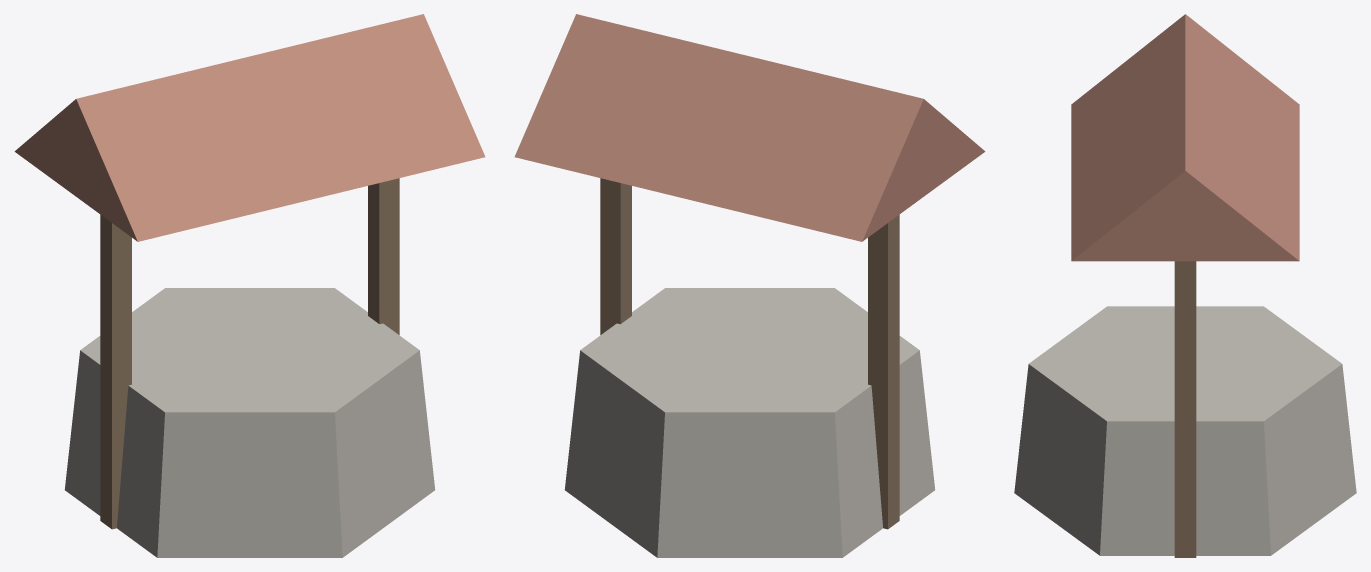
3 views of the same model, side by side, from view 1: azimuth 30°, elevation 25°; view 2: azimuth 150°, elevation 25°; view 3: azimuth 270°, elevation 25° (orthographic). The views are drawn at different scales.
Visible parts, largest first — view 1: structure.well; view 2: structure.well; view 3: structure.well.
Boxes of the visible parts, x1=… form: structure.well: x1=14, y1=14, x2=485, y2=557; structure.well: x1=514, y1=14, x2=985, y2=557; structure.well: x1=1014, y1=14, x2=1356, y2=557.
Bounding box in the file's own units: 2.6 × 3.1 × 2.4.
